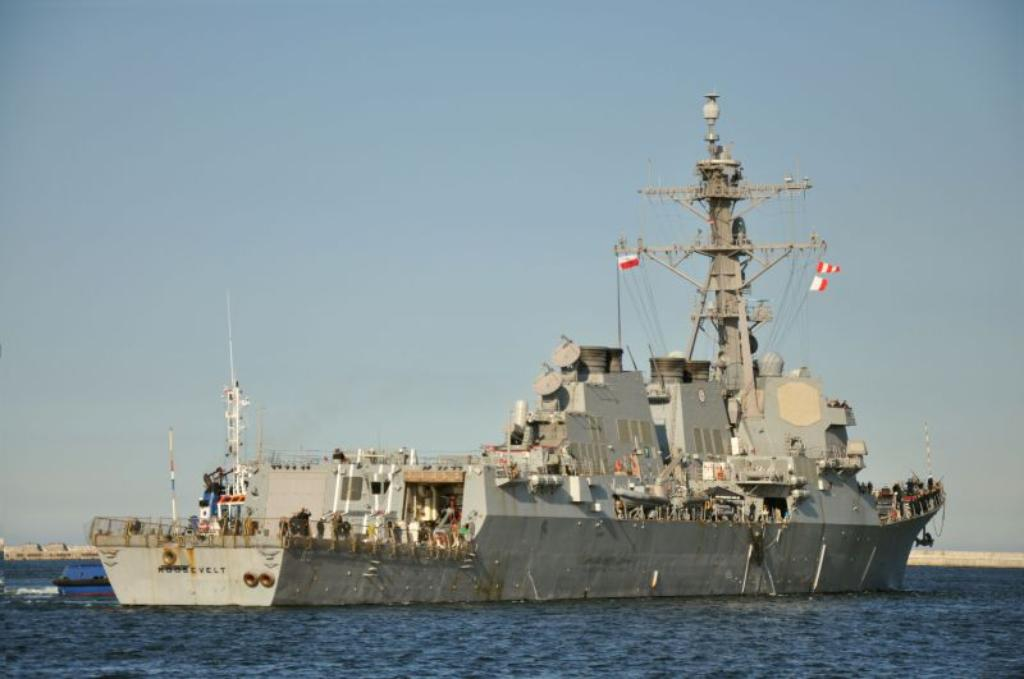Warship: (86, 86, 948, 614)
